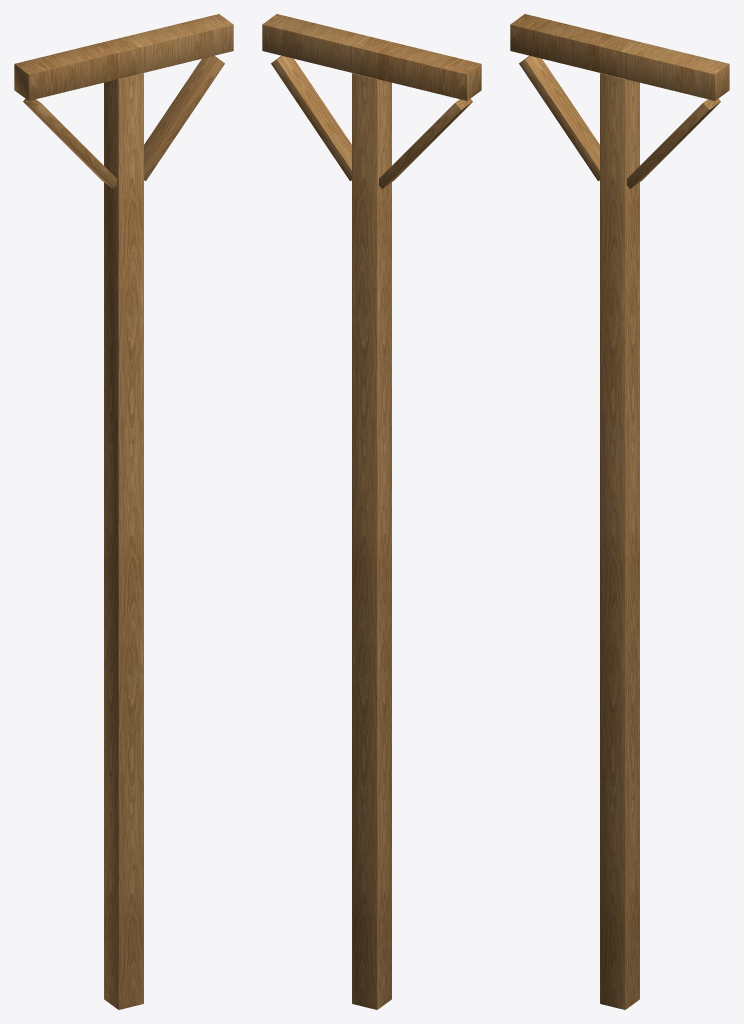
Rendered from EST-ESC-003.glb.
3 views of the same model, side by side, from view 1: azimuth 30°, elevation 25°; view 2: azimuth 150°, elevation 25°; view 3: azimuth 330°, elevation 25° (orthographic).
Visible parts, largest first — view 1: EST-ESC-003_pontalete, EST-ESC-003_travessa, EST-ESC-003_mao.001, EST-ESC-003_mao; view 2: EST-ESC-003_pontalete, EST-ESC-003_travessa, EST-ESC-003_mao.001, EST-ESC-003_mao; view 3: EST-ESC-003_pontalete, EST-ESC-003_travessa, EST-ESC-003_mao, EST-ESC-003_mao.001.
Part boxes in pixels (x1=…): EST-ESC-003_pontalete: x1=104, y1=73, x2=143, y2=1009; EST-ESC-003_travessa: x1=14, y1=14, x2=233, y2=100; EST-ESC-003_mao.001: x1=144, y1=55, x2=224, y2=180; EST-ESC-003_mao: x1=23, y1=98, x2=116, y2=188; EST-ESC-003_pontalete: x1=352, y1=73, x2=391, y2=1009; EST-ESC-003_travessa: x1=262, y1=14, x2=481, y2=100; EST-ESC-003_mao.001: x1=271, y1=55, x2=351, y2=180; EST-ESC-003_mao: x1=379, y1=98, x2=472, y2=188; EST-ESC-003_pontalete: x1=600, y1=73, x2=639, y2=1009; EST-ESC-003_travessa: x1=510, y1=14, x2=729, y2=100; EST-ESC-003_mao: x1=519, y1=55, x2=599, y2=180; EST-ESC-003_mao.001: x1=627, y1=98, x2=720, y2=188.
Bounding box in the file's own units: 0.6 × 2.68 × 0.0751.
Materials: 1 (1 with a texture image).
